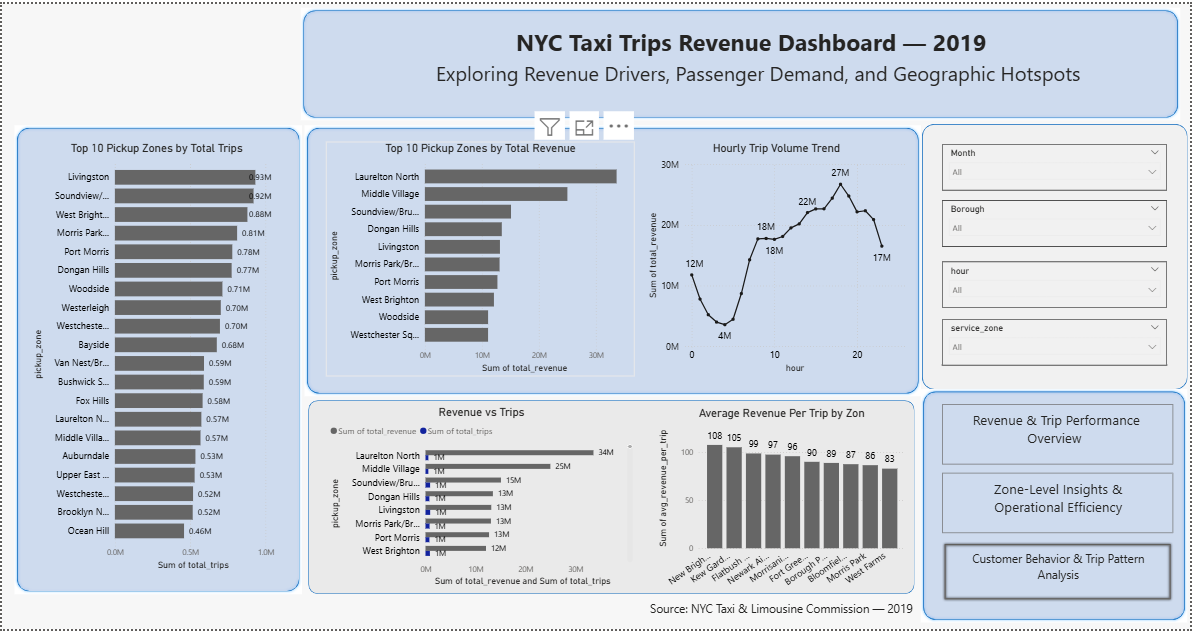

Layout of this report page (visuals, bound fields, positions):
{"tool":"powerbi","page":{"name":"Revenue & Trip Performance Overview","canvas":[1900,1000],"ordinal":0},"visuals":[{"type":"shape","box":[1473.3,625,426.7,365],"z":0},{"type":"actionButton","box":[1503.3,760,370,96.7],"z":1000},{"type":"textbox","box":[1543.3,885,300,75],"z":2000},{"type":"textbox","box":[1543.3,771.7,300,75],"z":3000},{"type":"actionButton","box":[1503.3,873.3,370,96.7],"z":4000},{"type":"actionButton","box":[1503.3,655,370,96.7],"z":5000},{"type":"textbox","box":[1538.3,661.7,300,90],"z":6000},{"type":"shape","box":[1476.7,196.7,423.3,420],"z":7000},{"type":"shape","box":[17.5,111.2,457.5,257.5],"z":8000},{"type":"card","fields":{"Values":["Sum(daily_revenue.total_revenue)"]},"box":[40,126.7,206.7,113.3],"z":9000},{"type":"card","fields":{"Values":["Sum(daily_trips.total_trips)"]},"box":[246.7,126.7,206.7,113.3],"z":10000},{"type":"shape","box":[483.3,192.5,986.7,433.3],"z":11000},{"type":"card","fields":{"Values":["DROPOFF_ZONE_SUMMARY_1.Avg Revenue Per Trip"]},"box":[40,240,203.3,113.3],"z":12000},{"type":"shape","box":[17.5,375,460,612.5],"z":13000},{"type":"card","fields":{"Values":["borough_summary.Highest Revenue Day"]},"box":[246.7,240,206.7,113.3],"z":14000},{"type":"shape","box":[496.7,633.3,970,310],"z":15000},{"type":"lineChart","title":"Daily Revenue Trend — 2019","fields":{"Category":["Date.Date.Variation.Date Hierarchy.Day"],"Y":["Sum(daily_revenue.total_revenue)"]},"box":[521.9,223,912.5,187.5],"z":16000},{"type":"lineChart","title":"Monthly Revenue Trend — 2019","fields":{"Y":["Sum(daily_revenue.total_revenue)"],"Category":["Date.Date.Variation.Date Hierarchy.Year","Date.Date.Variation.Date Hierarchy.Month"]},"box":[41.4,400.6,409.4,154.6],"z":17000},{"type":"lineChart","title":"Weekly Revenue Trend — 2019","fields":{"Category":["Week.Week_Number"],"Y":["Sum(weekly_revenue.total_revenue)"]},"box":[44,570,410,156],"z":18000},{"type":"lineChart","title":"Hourly Revenue Trend — 2019","fields":{"Y":["Sum(hourly_revenue_fixed.total_revenue)"],"Category":["hourly_revenue_fixed.hour"]},"box":[980.6,411.8,455,180],"z":19000},{"type":"clusteredColumnChart","fields":{"Category":["dropoff_revenue_summary1.Borough"],"Y":["Sum(DROPOFF_ZONE_SUMMARY_1.total_revenue)"]},"box":[519.4,410.5,447.5,180],"z":20000},{"type":"clusteredBarChart","title":"Top Pickup Zones by Revenue — 2019","fields":{"Category":["pickup_zone_summary.pickup_zone"],"Y":["Sum(pickup_zone_summary.total_revenue)"]},"box":[529,643.3,426.7,293.3],"z":21000},{"type":"textbox","box":[540,36.7,1147.5,85],"z":22000,"group":"g1"},{"type":"clusteredBarChart","title":"Borough Trips Comparison — 2019","fields":{"Category":["borough_summary.Borough"],"Y":["Sum(borough_summary.total_trips)"]},"box":[47,736.4,409.4,229.2],"z":22000},{"type":"clusteredBarChart","title":"Top 10 Dropoff Zones by Revenue — 2019","fields":{"Category":["DROPOFF_ZONE_SUMMARY_1.dropoff_zone"],"Y":["Sum(DROPOFF_ZONE_SUMMARY_1.total_revenue)"]},"box":[975.7,643.3,460,293.3],"z":23000},{"type":"slicer","fields":{"Values":["Date.Date.Variation.Date Hierarchy.Month"]},"box":[1503.3,223.3,360,74],"z":24000},{"type":"slicer","fields":{"Values":["taxi_zones.Borough"]},"box":[1503.3,313.3,360,74],"z":25000},{"type":"slicer","fields":{"Values":["hourly_revenue_fixed.hour"]},"box":[1503.3,411.7,360,74],"z":26000},{"type":"slicer","fields":{"Values":["taxi_zones.service_zone"]},"box":[1503.3,503.3,360,74],"z":27000},{"type":"shape","box":[483.3,3.3,1416.7,190],"z":28000},{"type":"textbox","box":[777.5,950,937.5,50],"z":29000},{"type":"group","id":"g1","title":"Group 1","box":[540,36.7,1147.5,137.8],"z":30000},{"type":"textbox","box":[573.3,84.5,1076.7,90],"z":30001,"group":"g1"}]}

Visuals, with their boxes in screenshot pixels (x1, y1, x2, y2), scaled from the page's 1900x1000 canvas onto the 1192x631 screenshot:
shape: x1=924 y1=394 x2=1191 y2=625
actionButton: x1=943 y1=480 x2=1175 y2=541
textbox: x1=968 y1=558 x2=1156 y2=606
textbox: x1=968 y1=487 x2=1156 y2=534
actionButton: x1=943 y1=551 x2=1175 y2=612
actionButton: x1=943 y1=413 x2=1175 y2=474
textbox: x1=965 y1=418 x2=1153 y2=474
shape: x1=926 y1=124 x2=1191 y2=389
shape: x1=11 y1=70 x2=298 y2=233
card - Sum(daily_revenue.total_revenue): x1=25 y1=80 x2=155 y2=151
card - Sum(daily_trips.total_trips): x1=155 y1=80 x2=284 y2=151
shape: x1=303 y1=121 x2=922 y2=395
card - DROPOFF_ZONE_SUMMARY_1.Avg Revenue Per Trip: x1=25 y1=151 x2=153 y2=223
shape: x1=11 y1=237 x2=300 y2=623
card - borough_summary.Highest Revenue Day: x1=155 y1=151 x2=284 y2=223
shape: x1=312 y1=400 x2=920 y2=595
"Daily Revenue Trend — 2019" lineChart: x1=327 y1=141 x2=900 y2=259
"Monthly Revenue Trend — 2019" lineChart: x1=26 y1=253 x2=283 y2=350
"Weekly Revenue Trend — 2019" lineChart: x1=28 y1=360 x2=285 y2=458
"Hourly Revenue Trend — 2019" lineChart: x1=615 y1=260 x2=901 y2=373
clusteredColumnChart - dropoff_revenue_summary1.Borough x Sum(DROPOFF_ZONE_SUMMARY_1.total_revenue): x1=326 y1=259 x2=607 y2=373
"Top Pickup Zones by Revenue — 2019" clusteredBarChart: x1=332 y1=406 x2=600 y2=591
textbox: x1=339 y1=23 x2=1059 y2=77
"Borough Trips Comparison — 2019" clusteredBarChart: x1=29 y1=465 x2=286 y2=609
"Top 10 Dropoff Zones by Revenue — 2019" clusteredBarChart: x1=612 y1=406 x2=901 y2=591
slicer - Date.Date.Variation.Date Hierarchy.Month: x1=943 y1=141 x2=1169 y2=188
slicer - taxi_zones.Borough: x1=943 y1=198 x2=1169 y2=244
slicer - hourly_revenue_fixed.hour: x1=943 y1=260 x2=1169 y2=306
slicer - taxi_zones.service_zone: x1=943 y1=318 x2=1169 y2=364
shape: x1=303 y1=2 x2=1191 y2=122
textbox: x1=488 y1=599 x2=1076 y2=630
"Group 1" group: x1=339 y1=23 x2=1059 y2=110
textbox: x1=360 y1=53 x2=1035 y2=110
